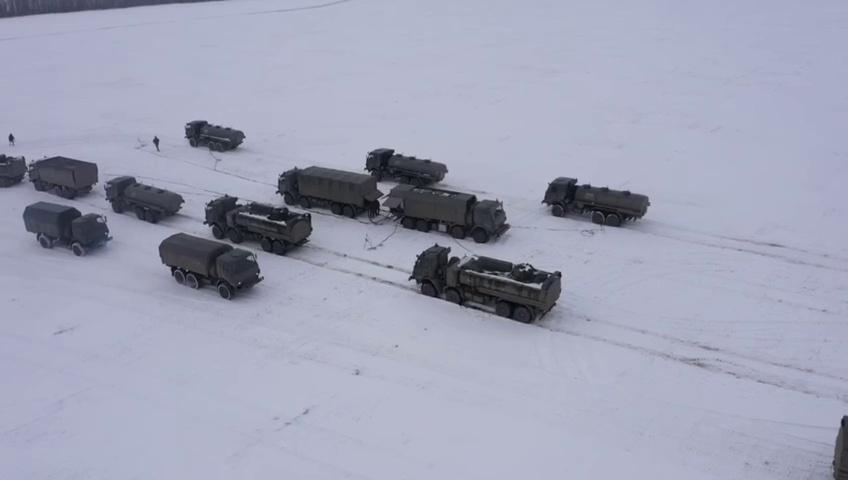person: (152, 136, 162, 154), (8, 132, 15, 146)
truck: (408, 242, 562, 324), (159, 232, 265, 300), (204, 193, 313, 256), (400, 184, 512, 244), (276, 166, 384, 218), (541, 176, 650, 226), (23, 201, 113, 257), (104, 175, 186, 224), (364, 147, 448, 188), (28, 154, 98, 200), (185, 120, 245, 152)
